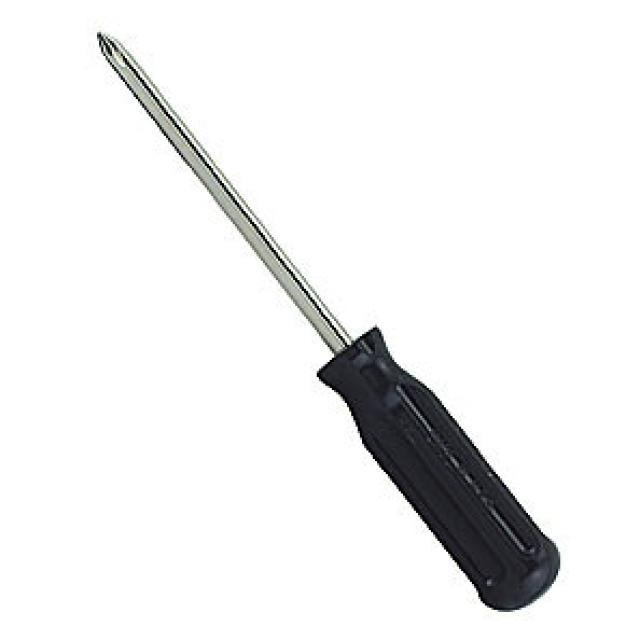screwdriver: (82, 15, 572, 618)
